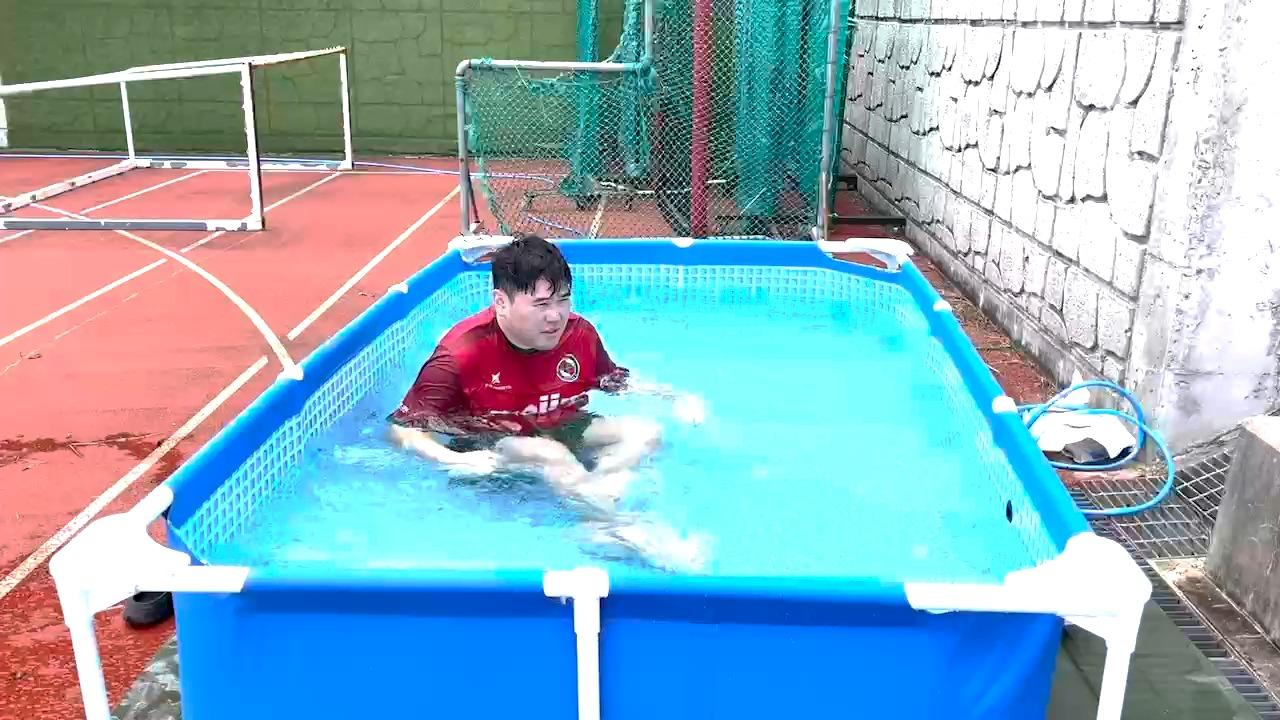Drowning: (437, 231, 689, 536)
